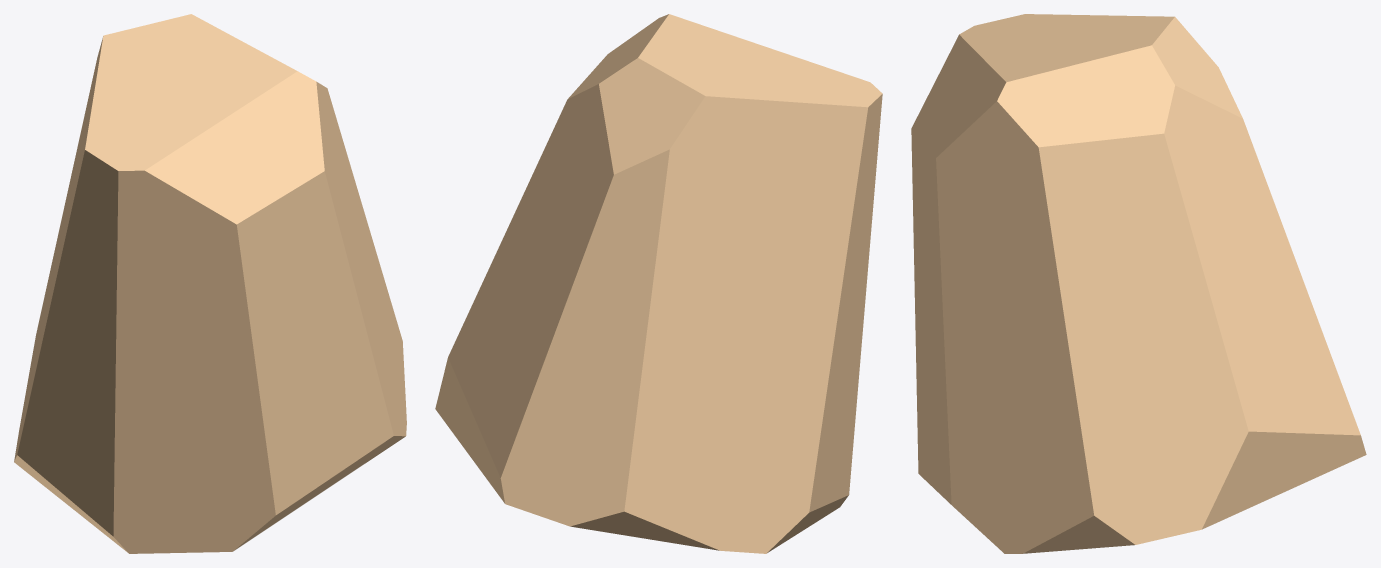
The model's file is sand-rock2.fbx.
3 views of the same model, side by side, from view 1: azimuth 30°, elevation 25°; view 2: azimuth 150°, elevation 25°; view 3: azimuth 270°, elevation 25° (orthographic). The views are drawn at different scales.
Parts seen in each view (by area): view 1: 柱体.016; view 2: 柱体.016; view 3: 柱体.016.
Part boxes in pixels (<box>): 柱体.016: <box>14,14,406,553</box>; 柱体.016: <box>435,14,882,553</box>; 柱体.016: <box>911,14,1366,553</box>.
Size of the model in its own units: 154 by 188 by 159.
